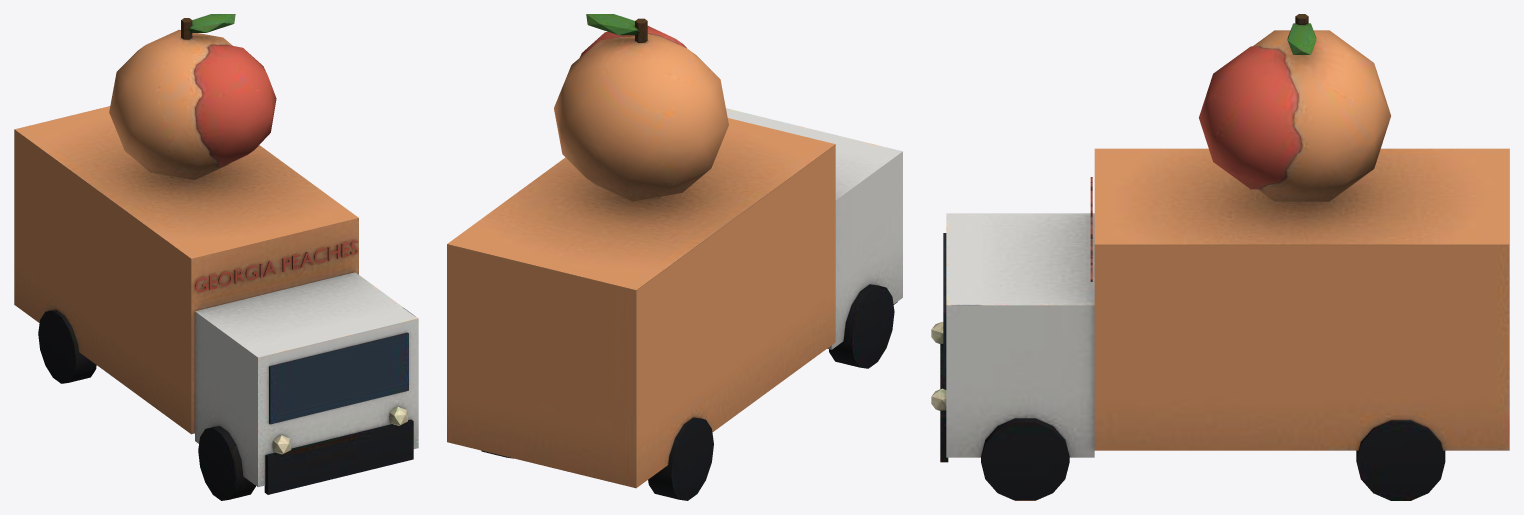
The model's file is camion_melocotones.glb.
3 renders of one model, left to right at view 1: azimuth 30°, elevation 25°; view 2: azimuth 150°, elevation 25°; view 3: azimuth 270°, elevation 25°, orthographic. The views are drawn at different scales.
Visible parts, largest first — view 1: camion_melocotones; view 2: camion_melocotones; view 3: camion_melocotones.
Boxes of the visible parts, bbox=[...] form: camion_melocotones: bbox=[14, 14, 418, 500]; camion_melocotones: bbox=[447, 14, 902, 500]; camion_melocotones: bbox=[931, 14, 1509, 500].
Size of the model in its own units: 2.4 by 4.85 by 5.85.
Materials: 1 (1 with a texture image).
